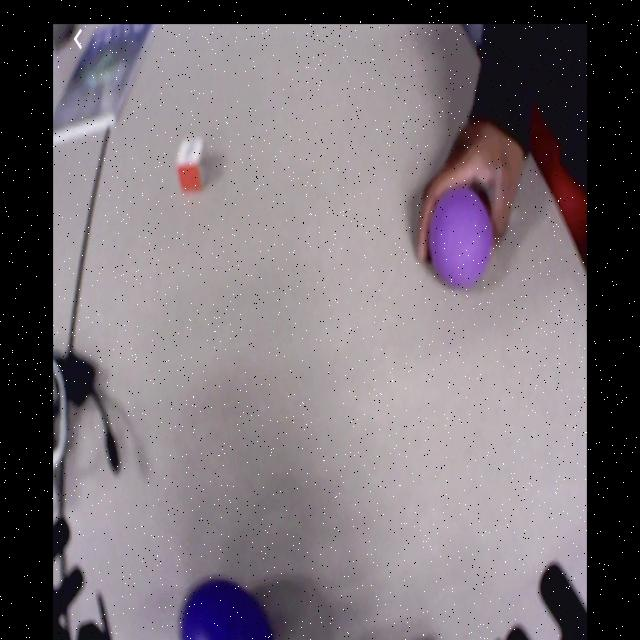ball: (429, 192, 495, 291), (181, 578, 277, 640)
